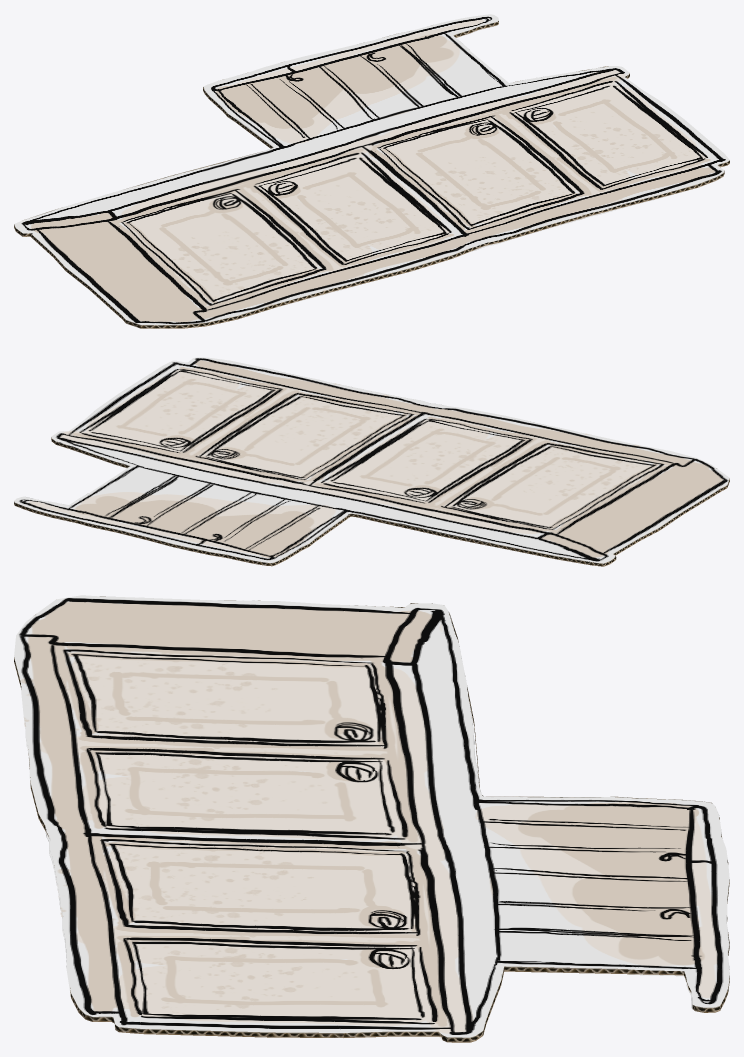
The model's file is kitchenMute.fbx.
3 views of the same model, one above another, from view 1: azimuth 30°, elevation 25°; view 2: azimuth 150°, elevation 25°; view 3: azimuth 270°, elevation 25° (orthographic). The views are drawn at different scales.
Parts seen in each view (by area): view 1: Plane; view 2: Plane; view 3: Plane.
Part boxes in pixels (x1,y1,x2,y2): Plane: (14,14,729,328); Plane: (14,357,729,566); Plane: (14,595,729,1042).
Bounding box in the file's own units: 9.22 × 0.05 × 6.3.
